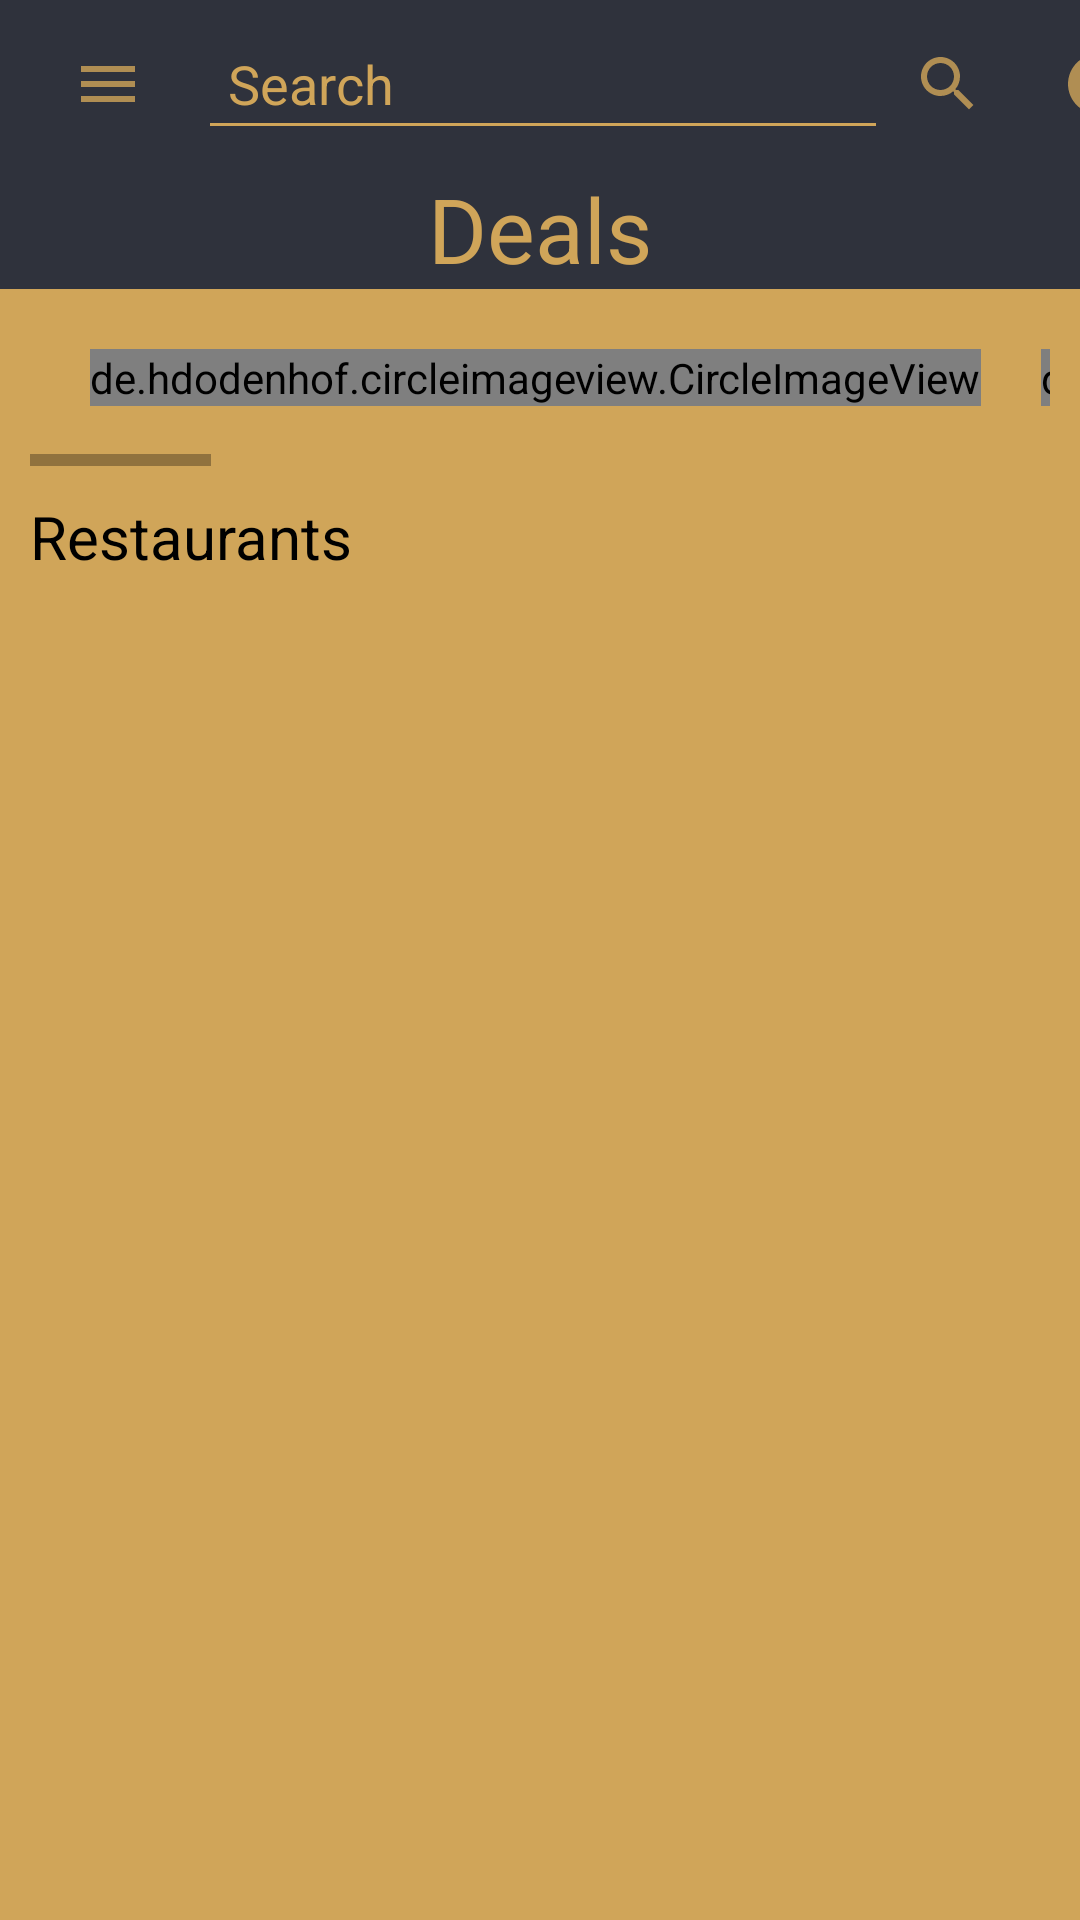

Icons on this 1080x1920 Android screen, each with its box as bbox=[x1, y1, x2, y2]:
menu: bbox=[81, 66, 135, 102]
